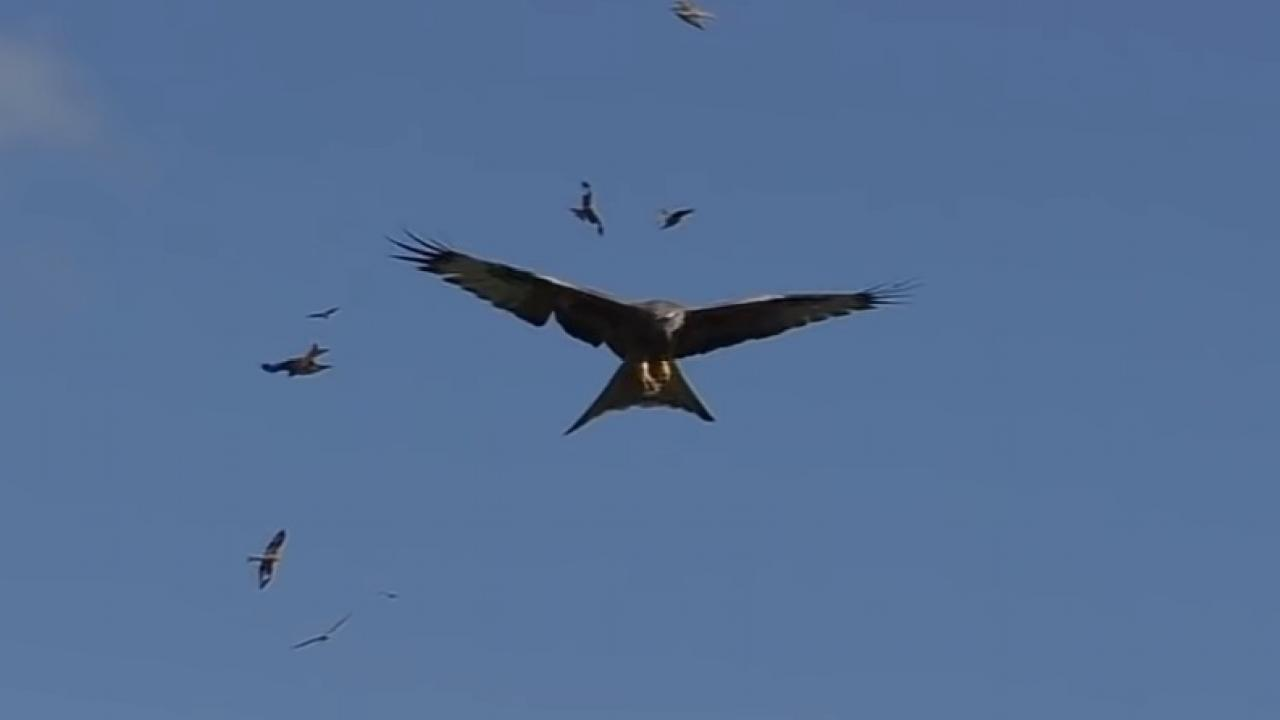Bird: (372, 216, 930, 443)
